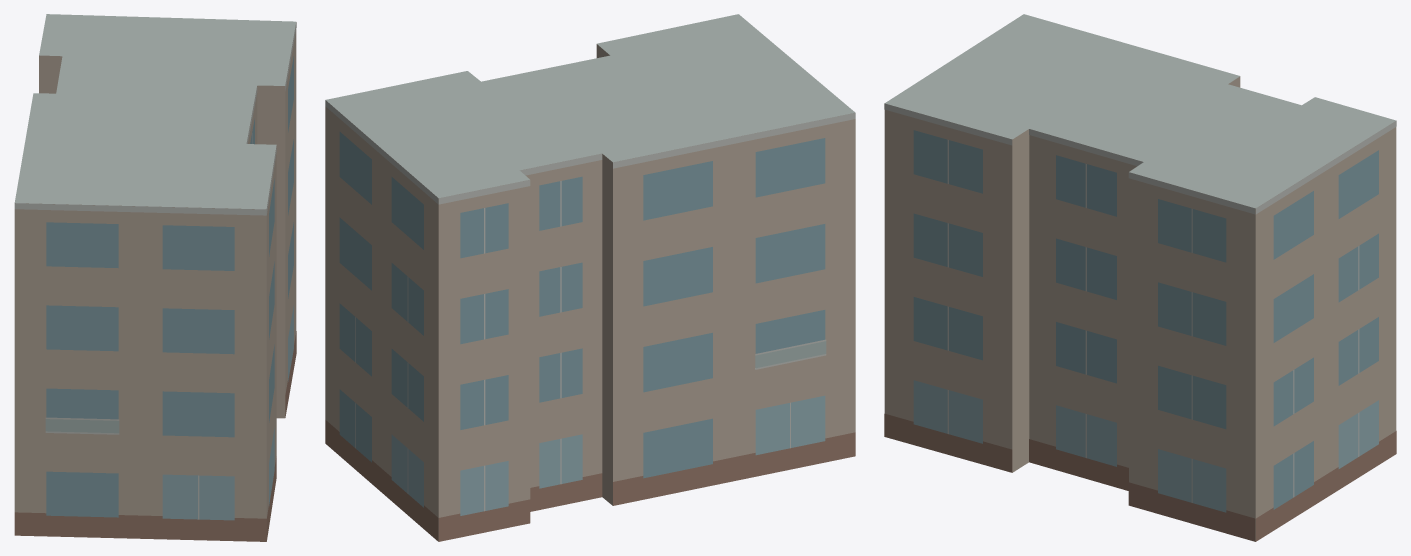
Rendered from survey-upis-32748856.glb.
3 views of the same model, side by side, from view 1: azimuth 30°, elevation 25°; view 2: azimuth 150°, elevation 25°; view 3: azimuth 270°, elevation 25° (orthographic). The views are drawn at different scales.
Parts seen in each view (by area): view 1: survey-upis-32748856.tmp; view 2: survey-upis-32748856.tmp; view 3: survey-upis-32748856.tmp.
Part boxes in pixels (x1,y1,x2,y2): survey-upis-32748856.tmp: [14, 14, 296, 541]; survey-upis-32748856.tmp: [325, 14, 855, 541]; survey-upis-32748856.tmp: [884, 14, 1396, 541].
Bounding box in the file's own units: 16.52 × 13.2 × 18.38.
